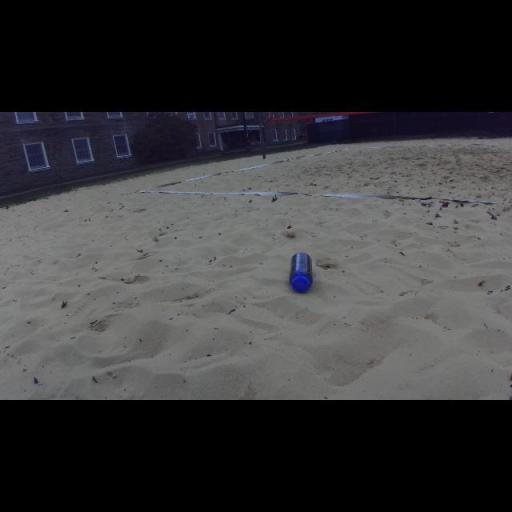bottle: (288, 253, 315, 295)
